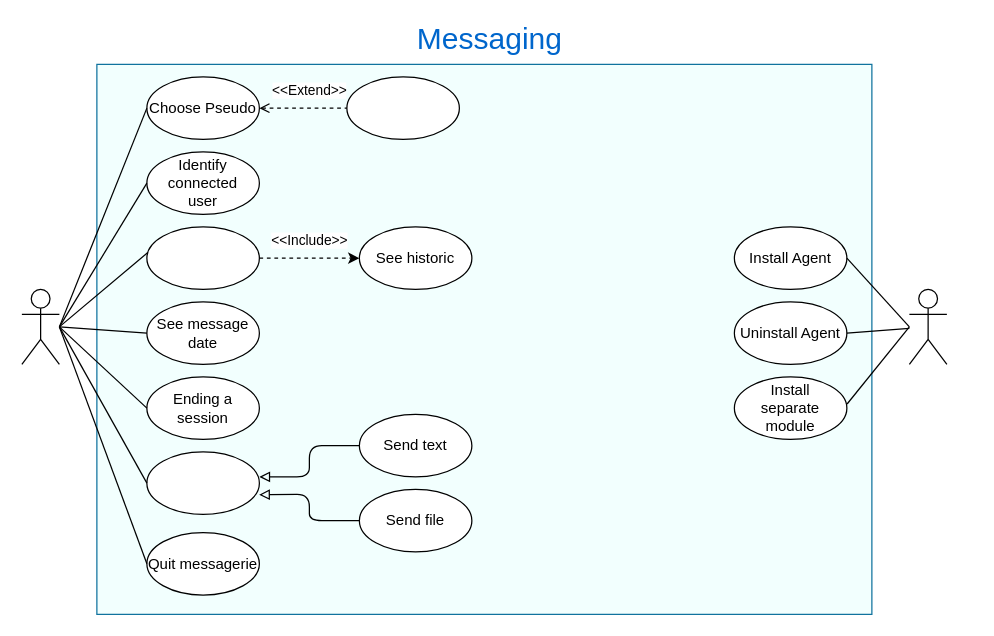
Image size: 994x636. Some labels were removed from this diagram. The shapes that lost their labels are listed below. From the top down, each one's centre as x and y in pixels, then its label:
At (402,107): "Change pseudo".
At (202,257): "Start conversation".
At (40,326): "User".
At (927,326): "Administrator".
At (202,482): "Send message".
